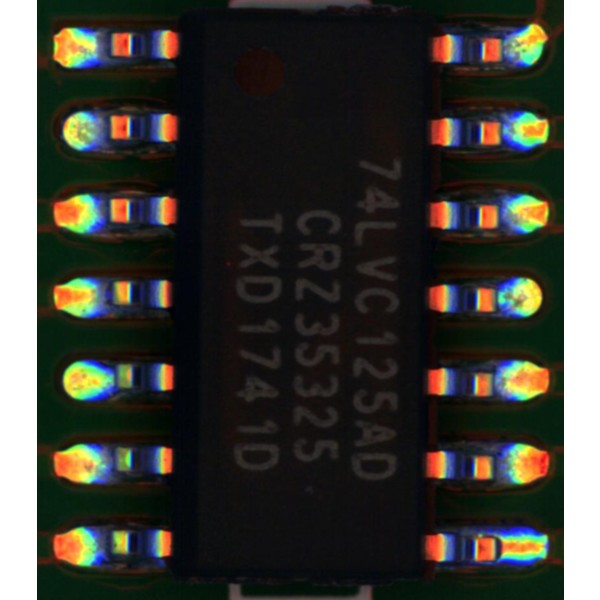Bad_podu: (487, 537, 510, 558)
